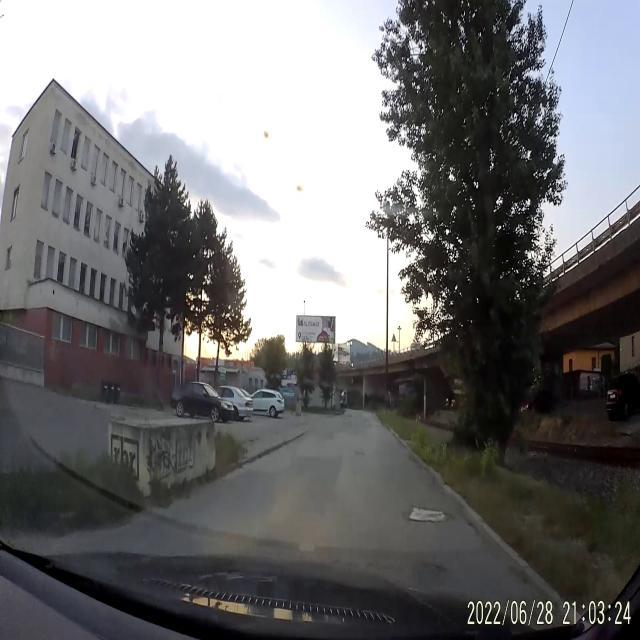Pothole: (402, 503, 458, 530), (412, 551, 450, 586)
